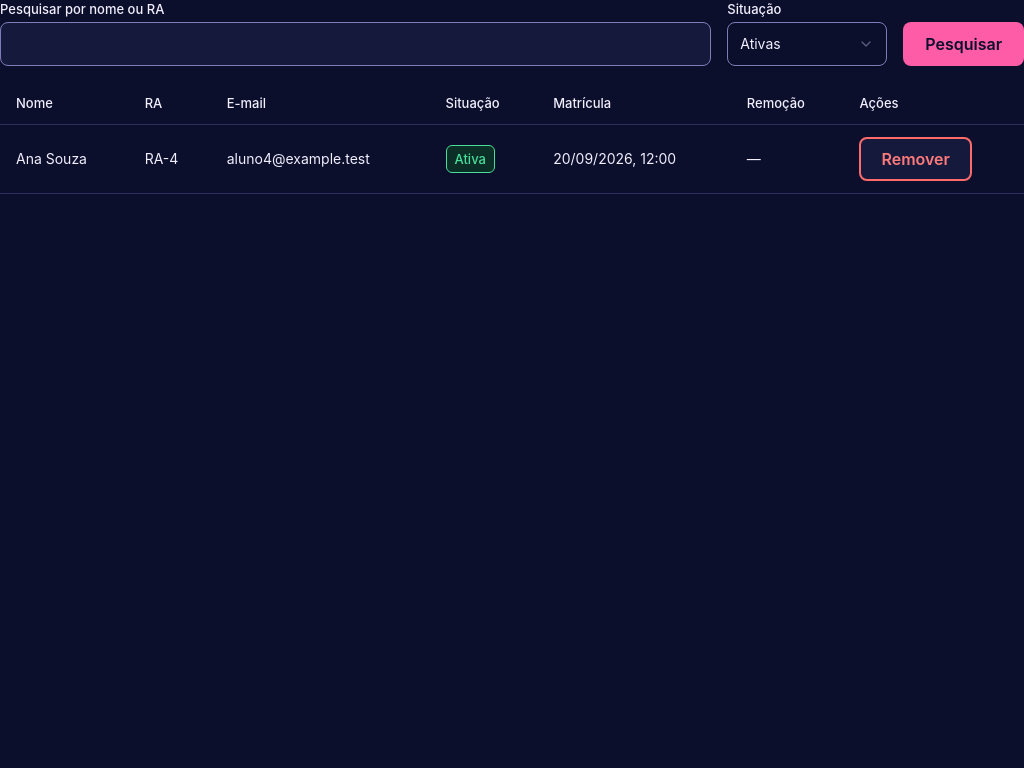
003/US6-1 003/US6-2 003/US6-3 ClassStudentsTab (FR-044, FR-045) › 003/FR-053 remover pede confirmação; Voltar devolve o foco; confirmar remove, anuncia e atualiza a turma
What coordinates should you click on to do the following:
click the button with aria-label "Remover Ana Souza da turma"
I would click on:
 (916, 159)
Its box is [860,137,972,181].
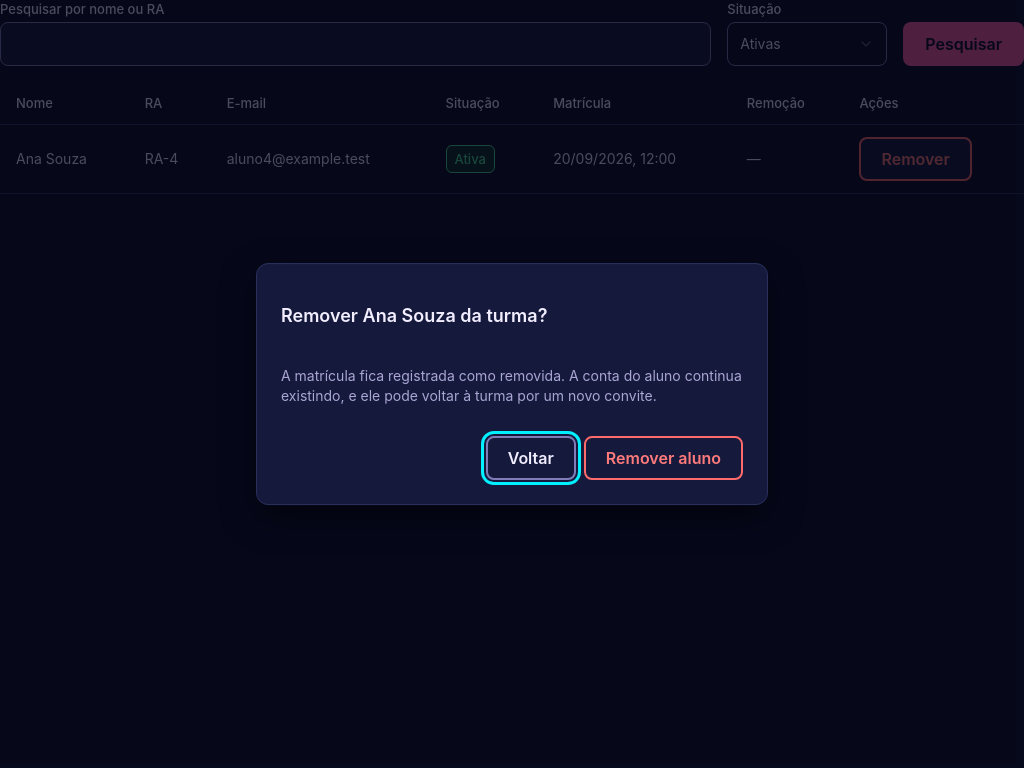
Expected: the dialog "Remover Ana Souza da turma?" shows "A conta do aluno continua existindo", [281,367,742,404]
What coordinates should you click on to do the following:
click the button "Voltar"
I would click on:
 (531, 458)
Its box is [486,436,576,480].
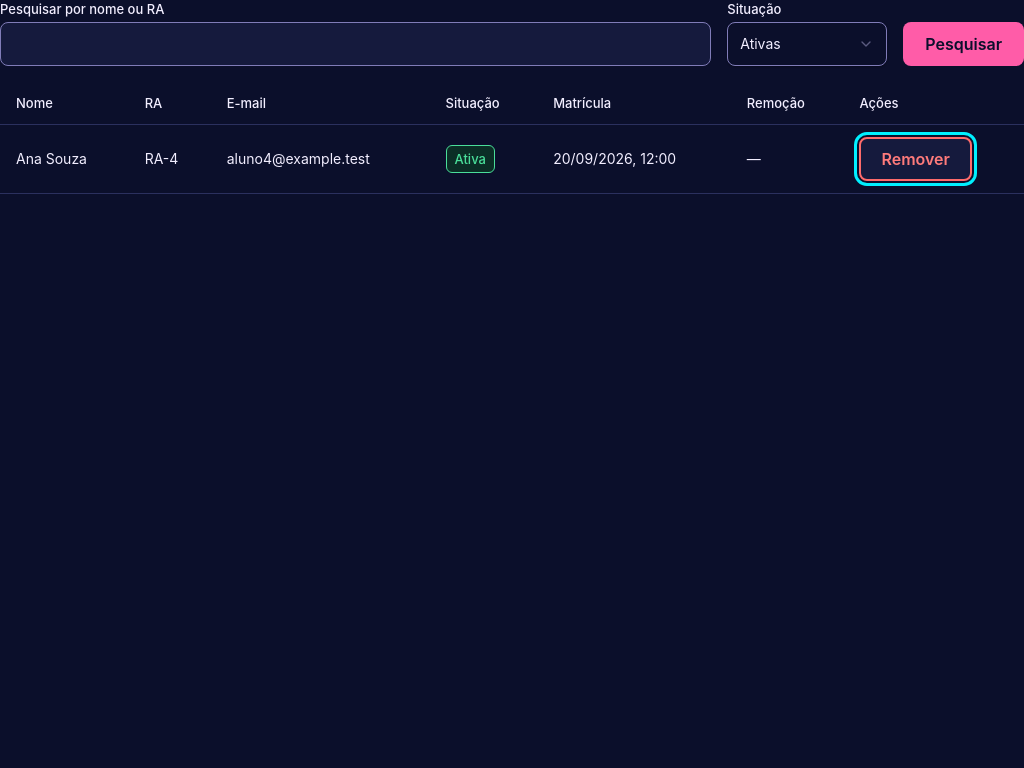
Expected: the dialog is gone
What coordinates should you click on to do the following:
click the button with aria-label "Remover Ana Souza da turma"
I would click on:
 (916, 159)
Its box is [860,137,972,181].
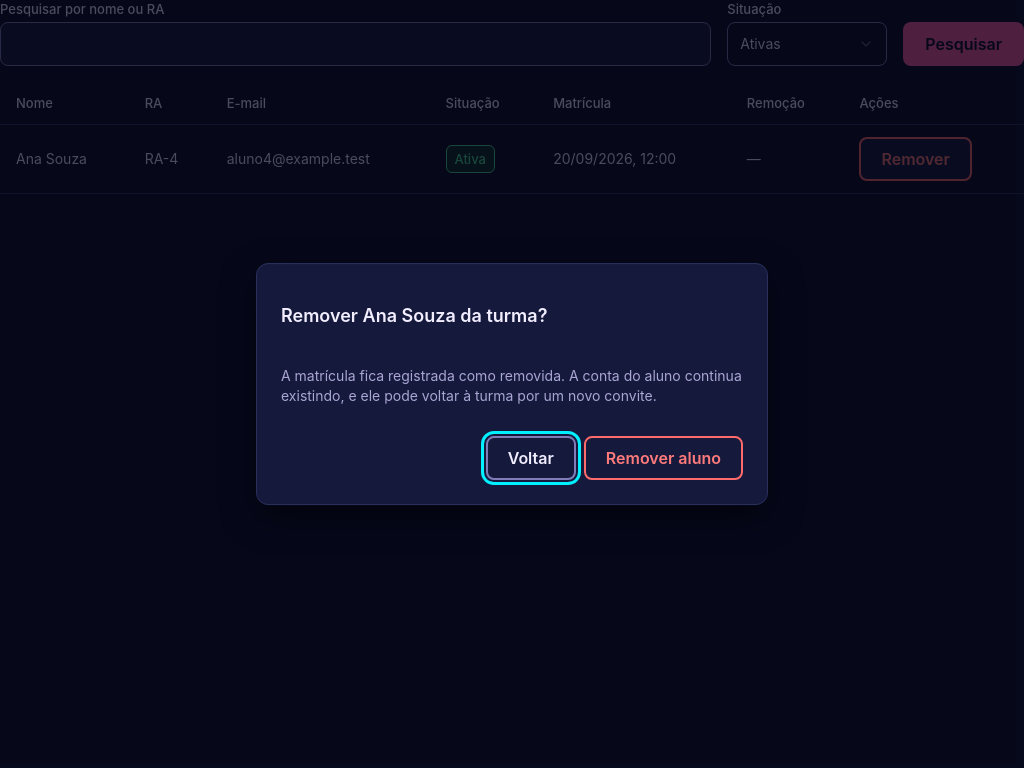
What coordinates should you click on to do the following:
click the button "Remover aluno"
I would click on:
 (663, 458)
Its box is [584,436,743,480].
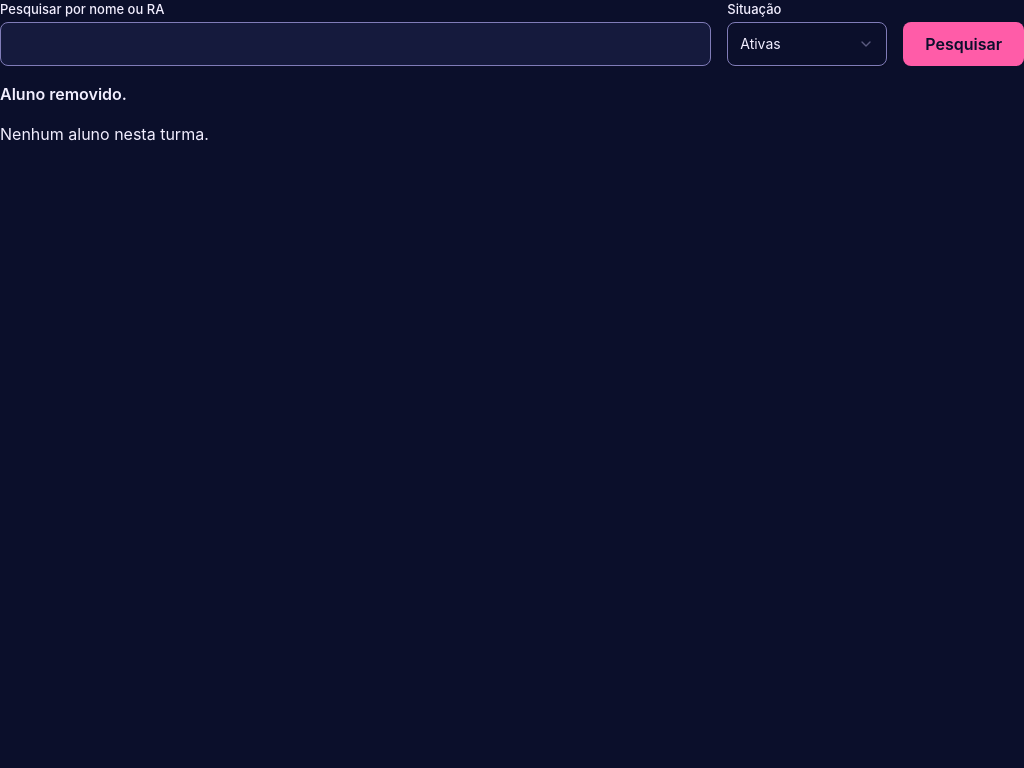
Expected: the text "Aluno removido." is shown, [0,84,127,104]
Expected: the text "Nenhum aluno nesta turma." is shown, [0,124,209,144]
